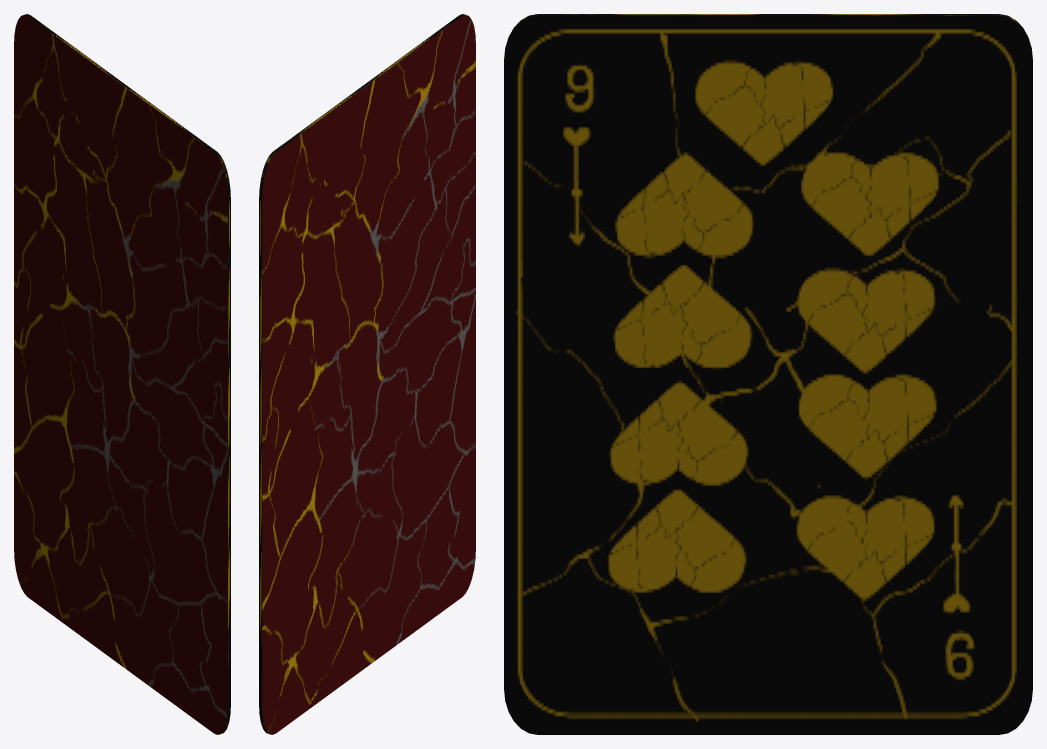
The model's file is 9 corazones .fbx.
3 renders of one model, left to right at view 1: azimuth 30°, elevation 25°; view 2: azimuth 150°, elevation 25°; view 3: azimuth 270°, elevation 25°, orthographic. The views are drawn at different scales.
Visible parts, largest first — view 1: 9 corazones; view 2: 9 corazones; view 3: 9 corazones.
Boxes of the visible parts, x1,y1,x2,y2 form: 9 corazones: (14, 14, 230, 734); 9 corazones: (259, 14, 475, 734); 9 corazones: (504, 14, 1032, 734).
Size of the model in its own units: 0.01 by 1.8 by 1.2.
